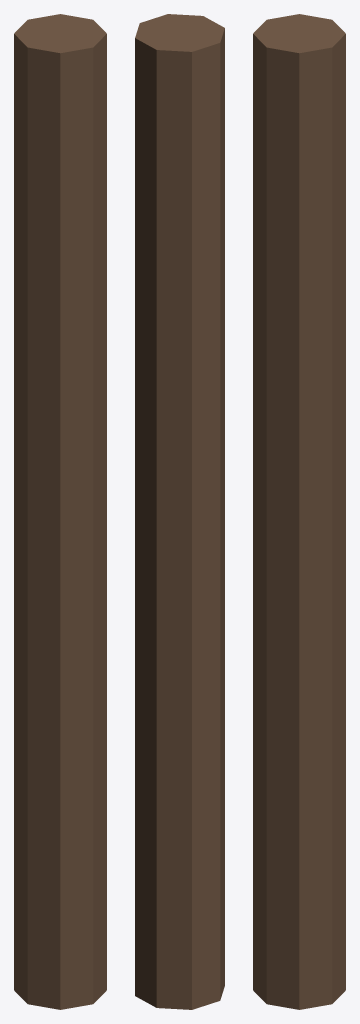
The model's file is tree.gltf.
3 renders of one model, left to right at view 1: azimuth 90°, elevation 25°; view 2: azimuth 150°, elevation 25°; view 3: azimuth 270°, elevation 25°, orthographic.
Visible parts, largest first — view 1: Tree; view 2: Tree; view 3: Tree.
Part boxes in pixels (x1,y1,x2,y2): Tree: (14,14,106,1009); Tree: (135,14,224,1009); Tree: (253,14,345,1009).
Size of the model in its own units: 0.44 by 5 by 0.44.
